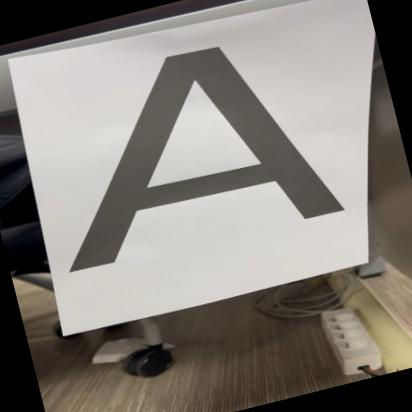seat: (24, 5, 362, 288)
